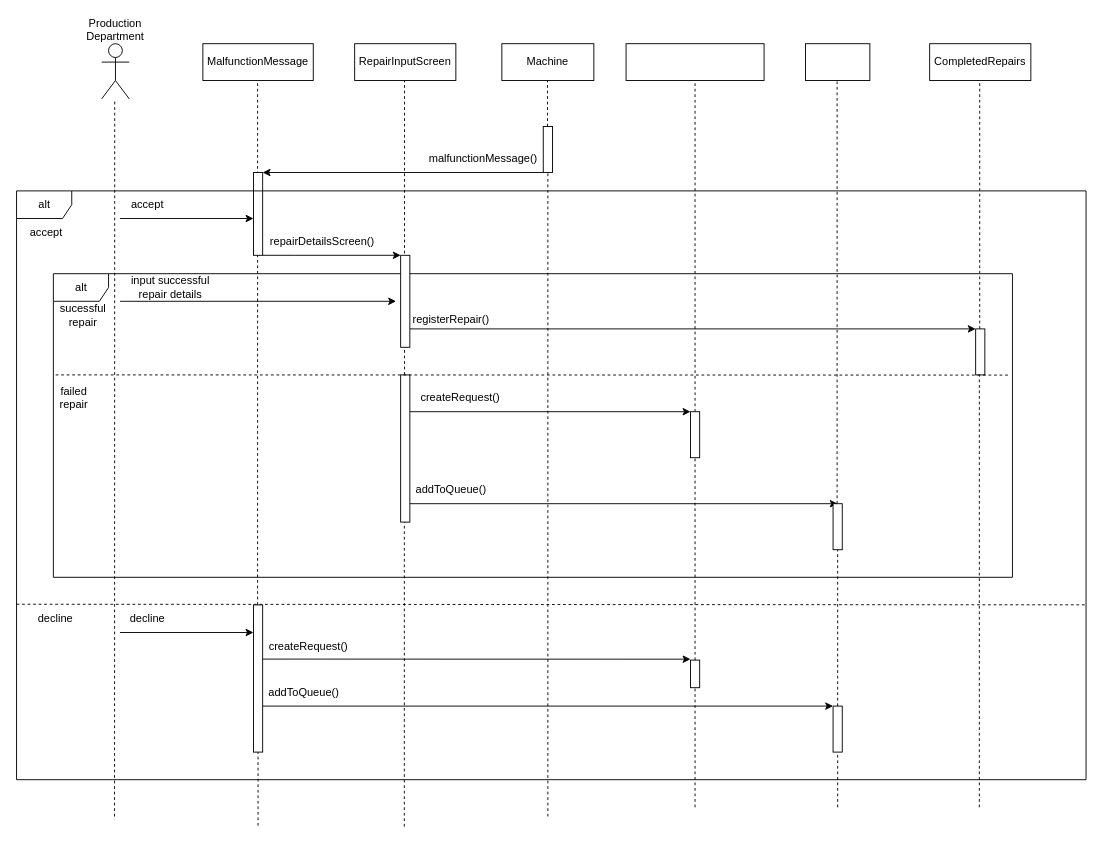
Some shapes in this 1103 by 844 pixel diagram are drawn without their labels. The box of each missing label's shape, as (x1, y1, x2, y2) in pixels:
Queue: (805, 43, 870, 80)
RepairRequest: (625, 43, 764, 80)
